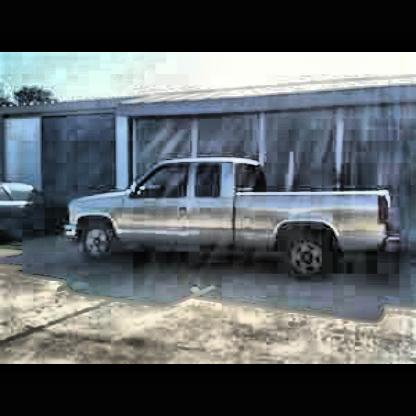Chevrolet Silverado 1500 Extended Cab 2012: (67, 157, 395, 281)
